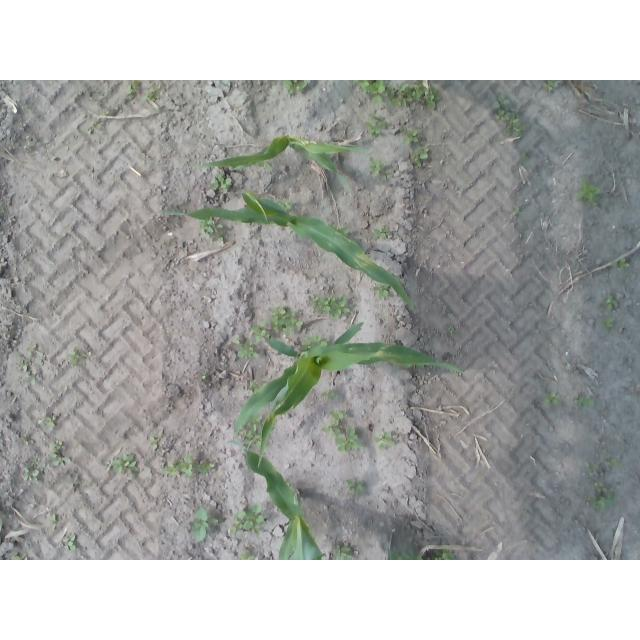Maize: (234, 322, 464, 470), (157, 192, 413, 309), (243, 449, 325, 560), (201, 135, 364, 182)
Weeds: (389, 83, 443, 109), (490, 95, 519, 133), (189, 509, 217, 541), (231, 505, 264, 532), (163, 459, 215, 474), (359, 81, 387, 108), (313, 296, 348, 316), (336, 429, 361, 452), (575, 183, 601, 205), (111, 457, 139, 476), (50, 441, 70, 467), (268, 308, 288, 331), (95, 87, 111, 115), (199, 219, 222, 237), (210, 176, 232, 193), (285, 81, 308, 96), (237, 342, 257, 359), (377, 432, 395, 450), (286, 318, 305, 335), (411, 148, 429, 164), (347, 478, 366, 493), (128, 81, 142, 101), (63, 536, 79, 553), (365, 120, 383, 135), (369, 158, 384, 176), (23, 469, 41, 484), (390, 552, 423, 560), (239, 546, 257, 560), (374, 285, 390, 299), (402, 129, 418, 143), (592, 496, 612, 507), (306, 335, 326, 346), (371, 228, 389, 240), (335, 547, 353, 558), (39, 417, 57, 428), (67, 348, 79, 364), (544, 393, 561, 404), (20, 361, 32, 376), (88, 123, 104, 134), (324, 423, 340, 434), (605, 294, 618, 306), (576, 393, 588, 406), (255, 329, 269, 340), (321, 391, 335, 402), (435, 552, 451, 561), (22, 437, 36, 447), (333, 412, 346, 421), (619, 259, 629, 270), (149, 436, 159, 447), (247, 423, 257, 433), (596, 483, 606, 493), (605, 319, 615, 329), (284, 200, 293, 210), (448, 325, 456, 334), (148, 92, 157, 100), (52, 516, 57, 530), (544, 80, 557, 85), (611, 458, 618, 467), (514, 208, 520, 217)
